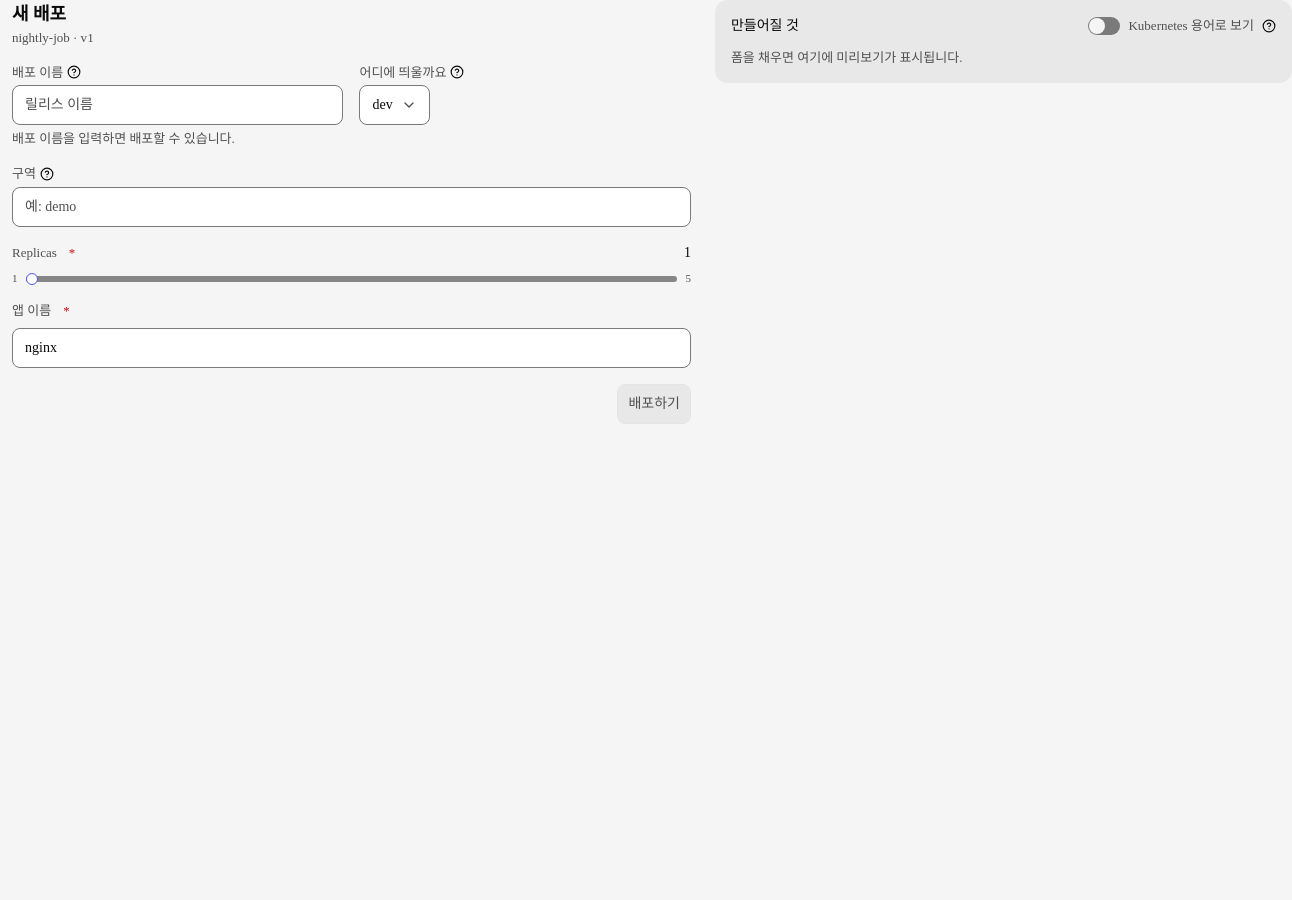
Test: DeployClient › names the release holding the resources on a resource-conflict
Type "my-app" into the field labelled "배포 이름" at (178,105), box [12,85,344,125]
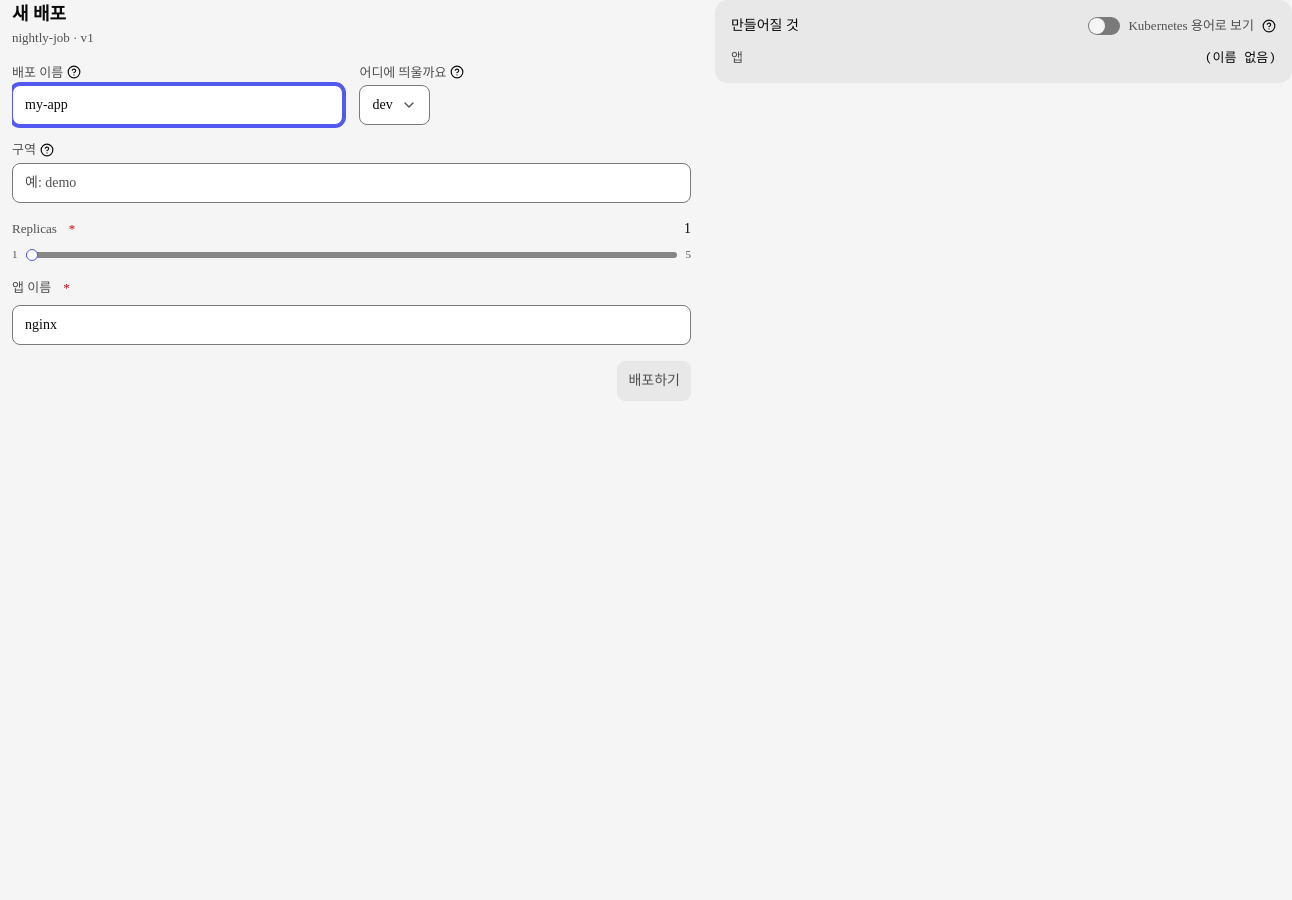
Type "default" into the field labelled "구역" at (351,183), box [12,163,691,203]
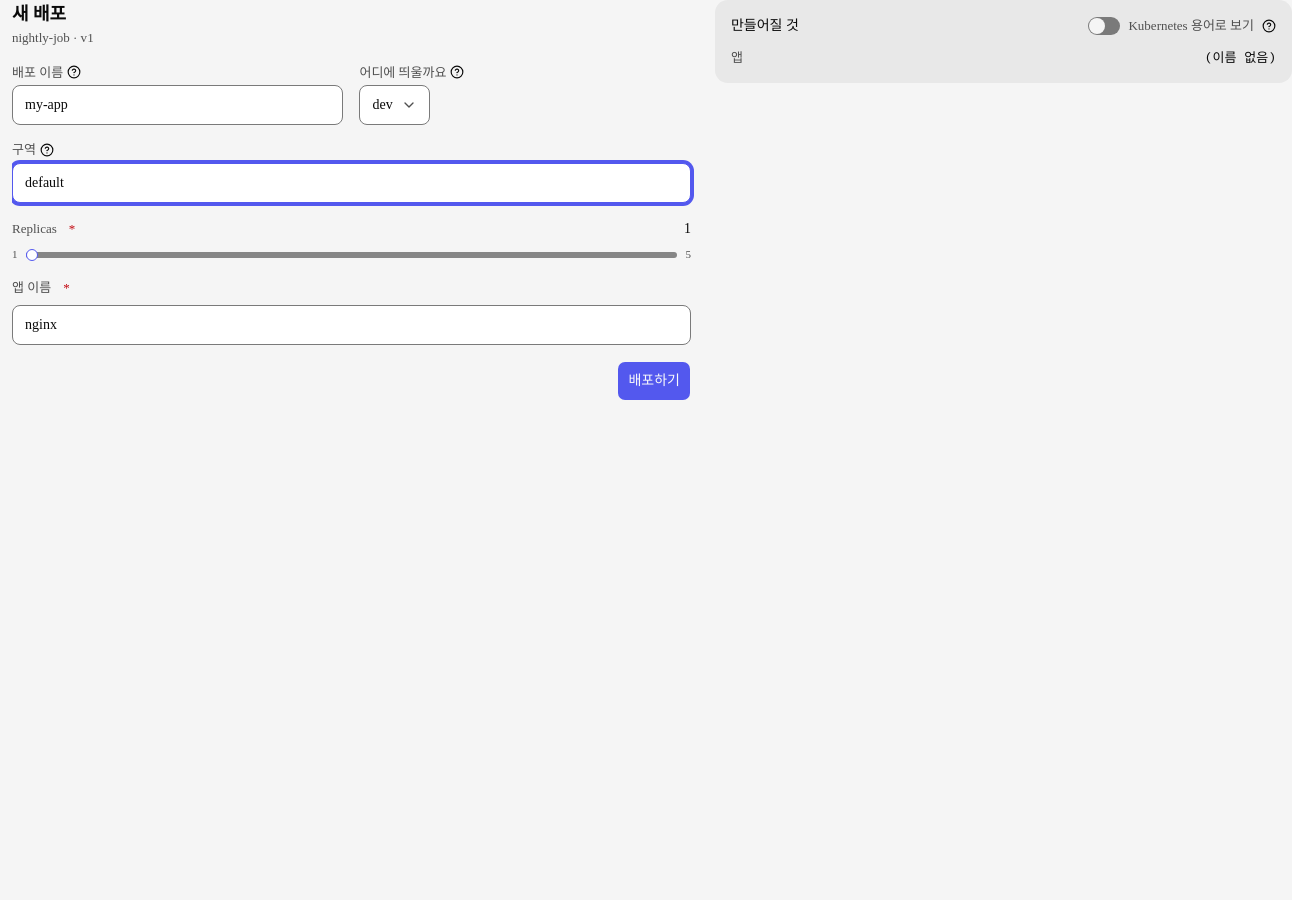
Now the button "배포하기" is enabled
Click the button "배포하기" at (654,381), box [617,361,691,401]
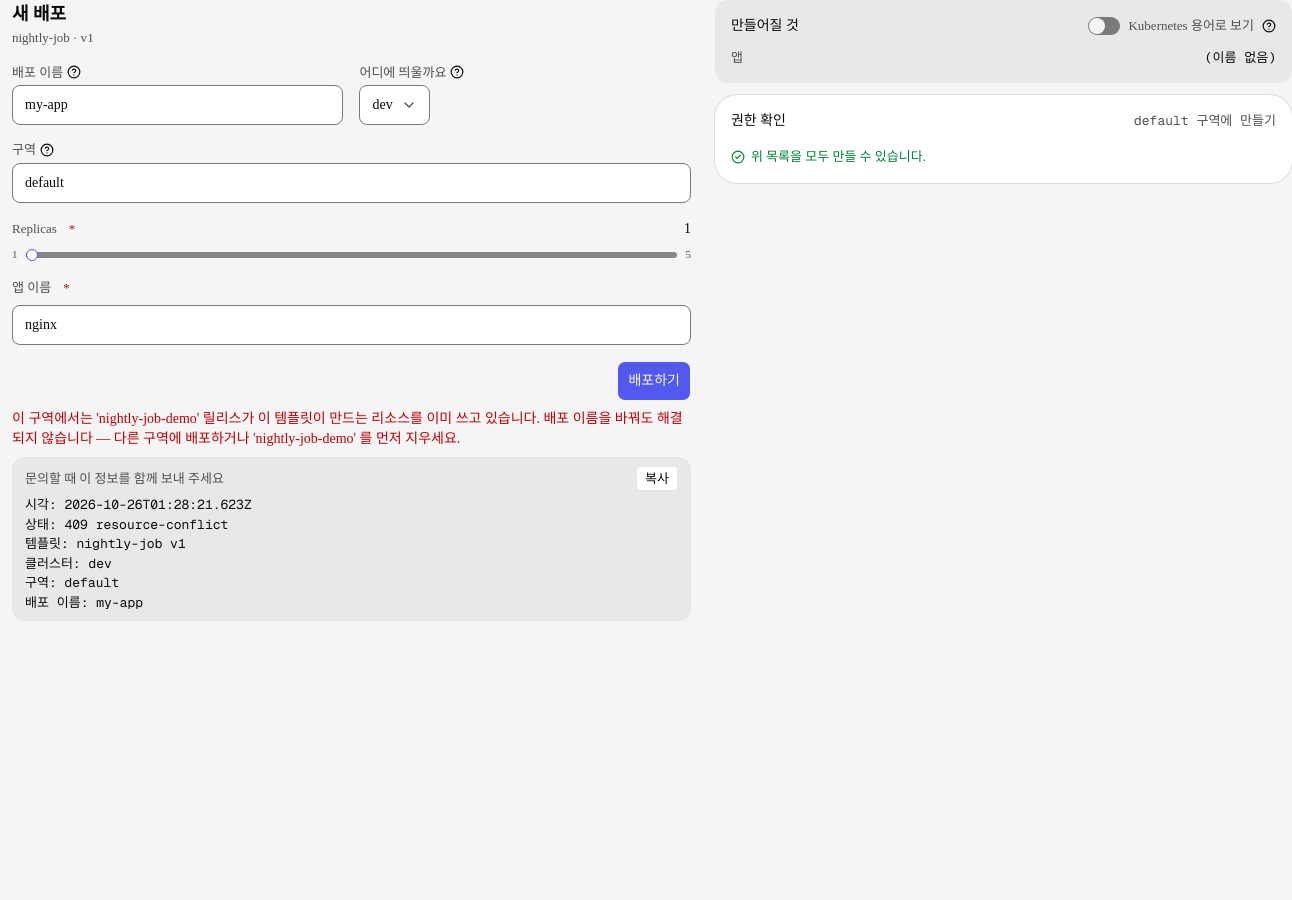
Expected: the message does not show "같은 이름의 릴리스", [12,409,691,621]
Now the message shows "nightly-job-demo", box [12,411,683,446]
Now the message shows "배포 이름을 바꿔도 해결되지 않습니다", box [12,411,683,446]
